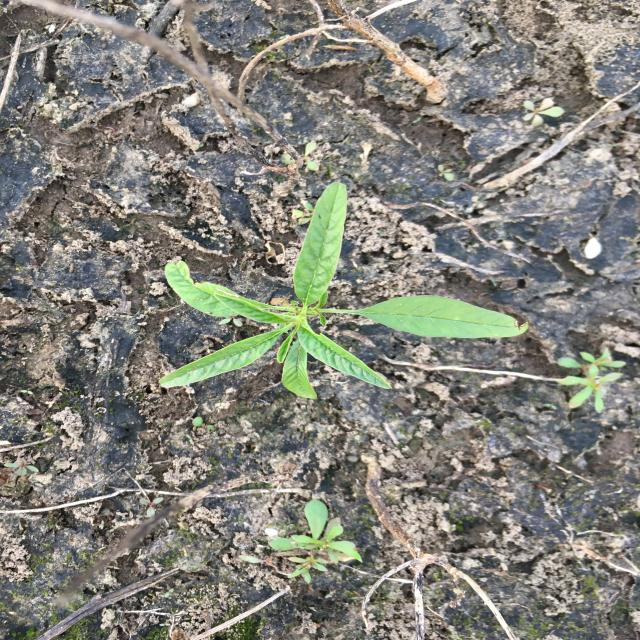Carpetweed: (255, 498, 364, 587), (556, 345, 631, 418)
Waterhemp: (155, 178, 535, 401)
